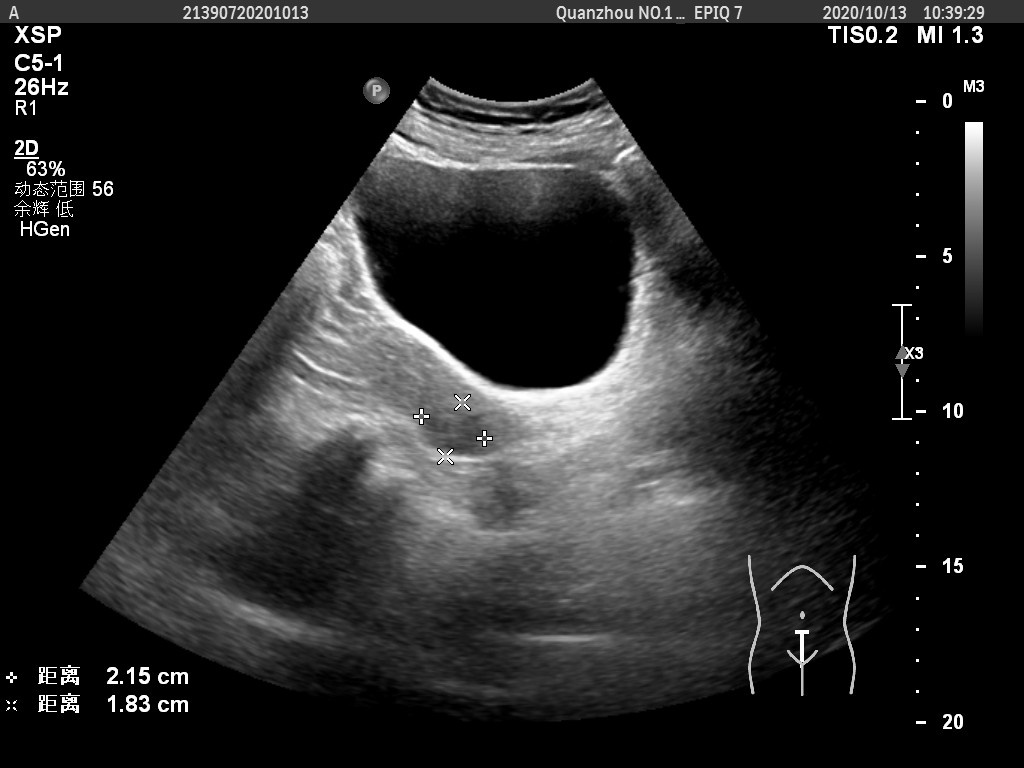肌瘤: (425, 406, 483, 453)
